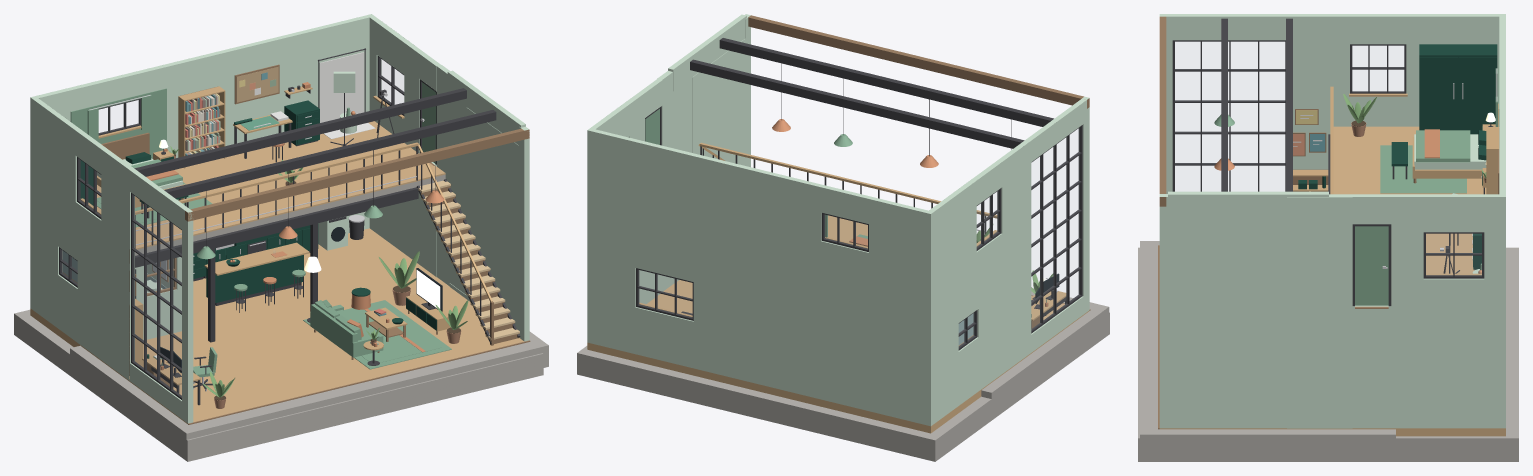
Rendered from map-bin.glb.
3 views of the same model, side by side, from view 1: azimuth 30°, elevation 25°; view 2: azimuth 150°, elevation 25°; view 3: azimuth 270°, elevation 25° (orthographic). The views are drawn at different scales.
Parts seen in each view (by area): view 1: Walls, Floor_Slab, Mezzanine, Front_Frame, Roof, Stair, Bar_Counter, Win_LivingBig, Photo_Corner, Bookshelf, Living_Rug, Railing_Mezz (+21 smaller); view 2: Walls, Floor_Slab, Roof, Front_Frame, Win_LivingBig, Railing_Mezz, Win_Kitchen, Desk, Win_BedLeft, Mezzanine, Win_BedHead; view 3: Walls, Floor_Slab, Wardrobe, Mezzanine, Front_Frame, Bed, Win_LivingBig, Door_Entrance_Leaf, Roof, Bedroom_Rug, Win_BedLeft, Win_RightBed (+6 smaller).
Boxes of the visible parts, x1=… form: Walls: x1=30, y1=14, x2=525, y2=420; Floor_Slab: x1=14, y1=228, x2=548, y2=461; Mezzanine: x1=97, y1=121, x2=445, y2=342; Front_Frame: x1=185, y1=126, x2=530, y2=424; Roof: x1=134, y1=88, x2=496, y2=198; Stair: x1=416, y1=143, x2=520, y2=345; Bar_Counter: x1=204, y1=242, x2=309, y2=305; Win_LivingBig: x1=131, y1=193, x2=181, y2=399; Photo_Corner: x1=318, y1=48, x2=394, y2=146; Bookshelf: x1=178, y1=86, x2=225, y2=168; Living_Rug: x1=303, y1=300, x2=451, y2=369; Railing_Mezz: x1=135, y1=142, x2=418, y2=248; Walls: x1=587, y1=14, x2=1086, y2=426; Floor_Slab: x1=577, y1=280, x2=1109, y2=461; Roof: x1=690, y1=38, x2=1053, y2=148; Front_Frame: x1=745, y1=14, x2=1090, y2=311; Win_LivingBig: x1=1031, y1=125, x2=1082, y2=333; Railing_Mezz: x1=699, y1=142, x2=997, y2=234; Win_Kitchen: x1=636, y1=268, x2=693, y2=320; Desk: x1=1031, y1=273, x2=1066, y2=328; Win_BedLeft: x1=976, y1=188, x2=1001, y2=250; Mezzanine: x1=828, y1=215, x2=867, y2=241; Win_BedHead: x1=821, y1=213, x2=868, y2=251; Walls: x1=1166, y1=14, x2=1505, y2=428; Floor_Slab: x1=1138, y1=241, x2=1518, y2=461; Wardrobe: x1=1419, y1=44, x2=1497, y2=134; Mezzanine: x1=1328, y1=126, x2=1486, y2=273; Front_Frame: x1=1158, y1=14, x2=1171, y2=429; Bed: x1=1412, y1=129, x2=1486, y2=183; Win_LivingBig: x1=1172, y1=40, x2=1285, y2=191; Door_Entrance_Leaf: x1=1355, y1=226, x2=1388, y2=305; Roof: x1=1221, y1=18, x2=1292, y2=191; Bedroom_Rug: x1=1380, y1=145, x2=1466, y2=193; Win_BedLeft: x1=1349, y1=44, x2=1407, y2=96; Win_RightBed: x1=1423, y1=232, x2=1484, y2=278.
Size of the model in its own units: 10.6 by 6.77 by 8.8.
